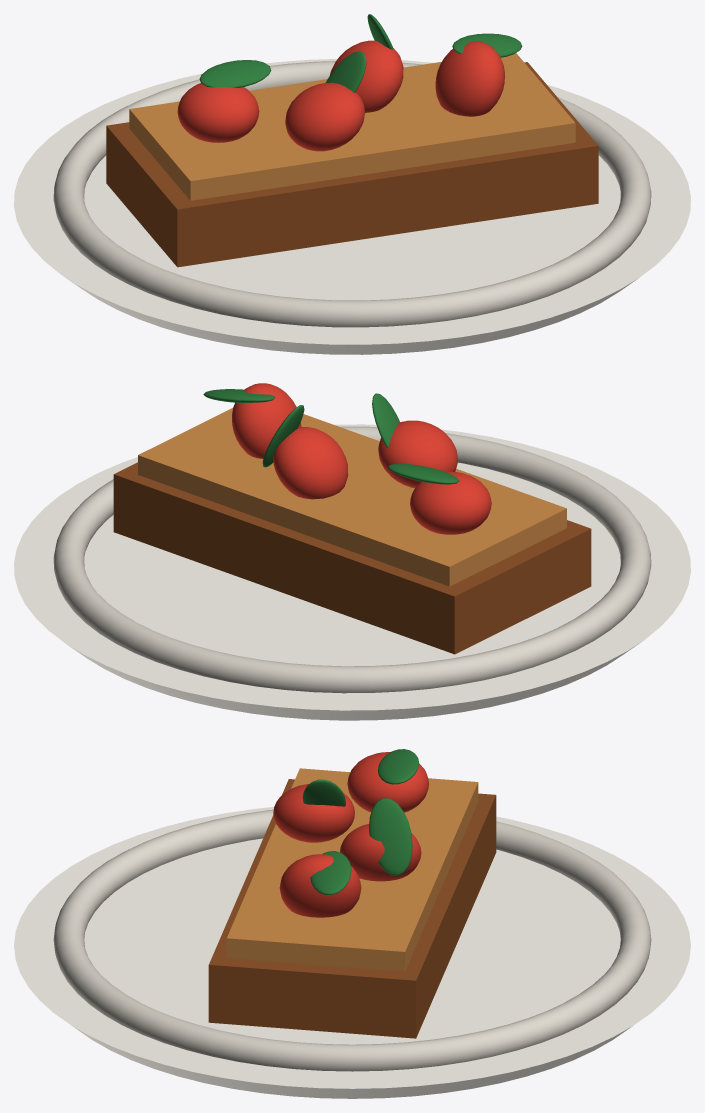
The model's file is Bruschetta.glb.
3 renders of one model, top to bottom at view 1: azimuth 30°, elevation 25°; view 2: azimuth 150°, elevation 25°; view 3: azimuth 270°, elevation 25°, orthographic.
Size of the model in its own units: 5.3 by 1.61 by 5.3.
